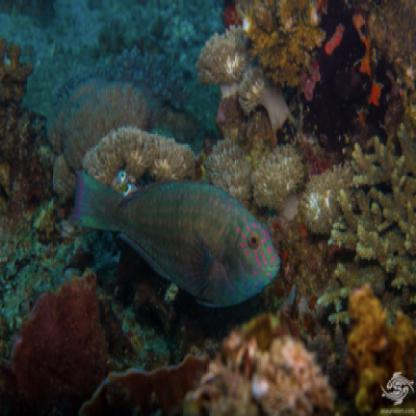Bio: (72, 159, 283, 315)
